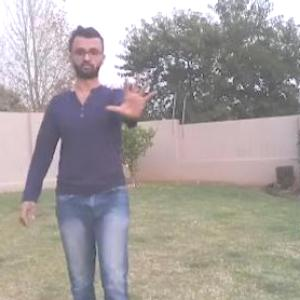follow_hand: (106, 70, 161, 121)
